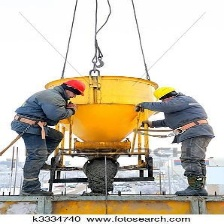helmet: (59, 79, 90, 99), (148, 86, 179, 100)
no-vest: (19, 90, 74, 143), (156, 101, 213, 144)
person: (10, 78, 89, 198), (144, 87, 216, 193)
